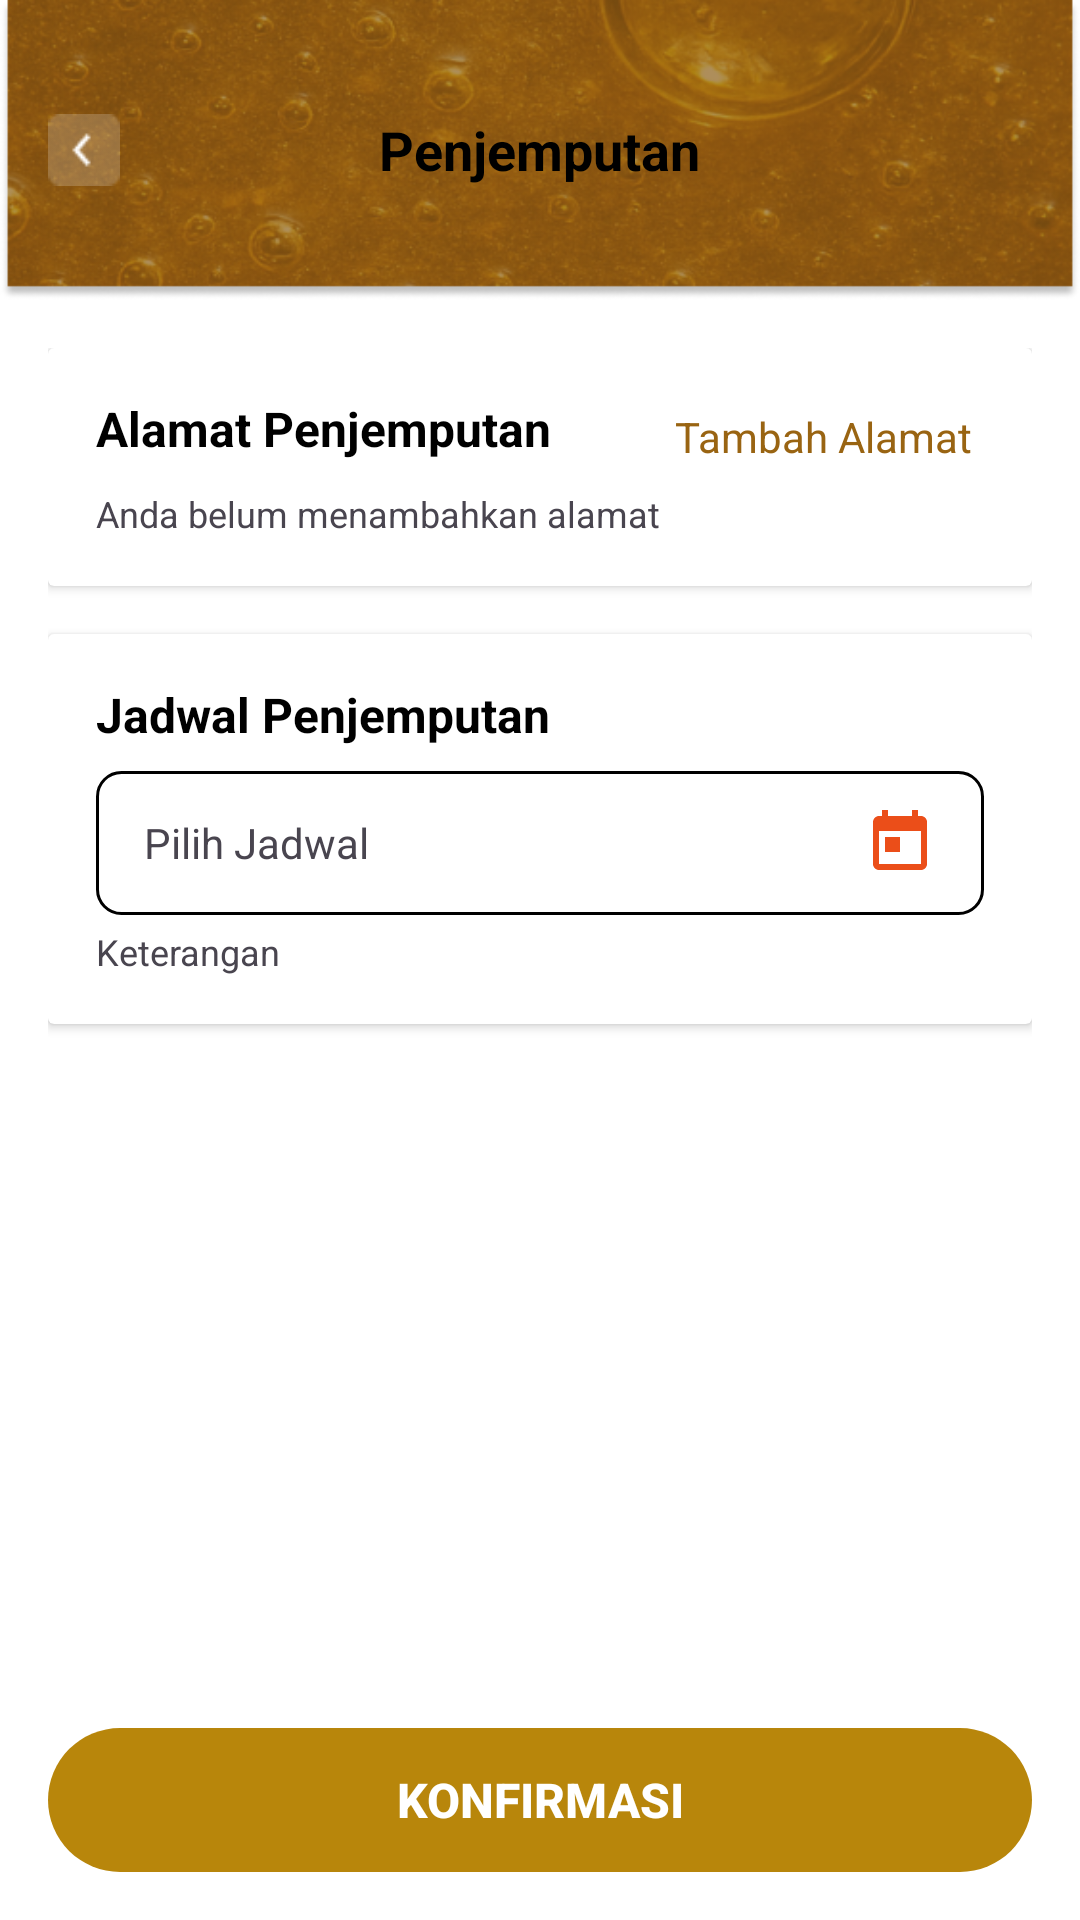

Point at icon controls on the screen. Image size 1080px×1920px, points as (x,y).
Back: (84,150)
Calendar: (900,840)
